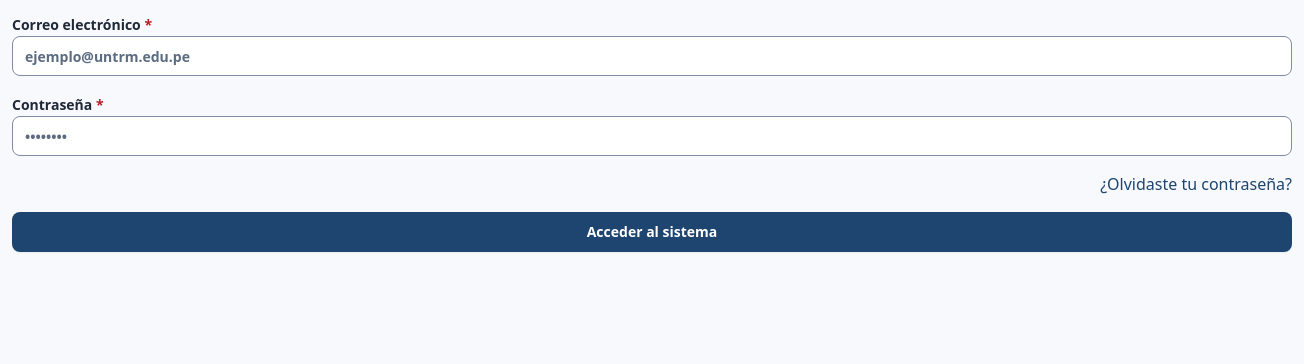
Test: LoginForm component › shows pending activation message on ACCOUNT_PENDING_ACTIVATION (CA4)
Type "pendiente@untrm.edu.pe" into the field labelled "Correo electrónico *" at (652, 56), box [12,36,1292,76]
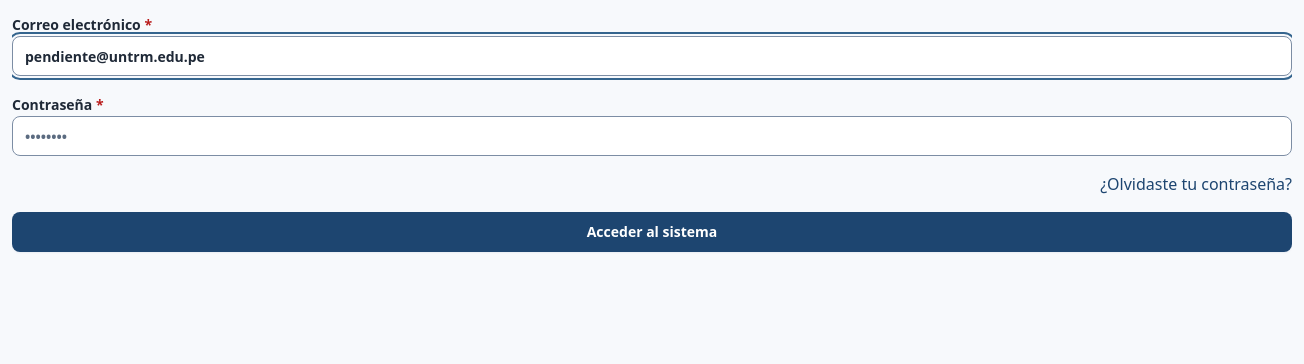
Type "ClaveValida123" into the password field labelled "Contraseña *" at (652, 136), box [12,116,1292,156]
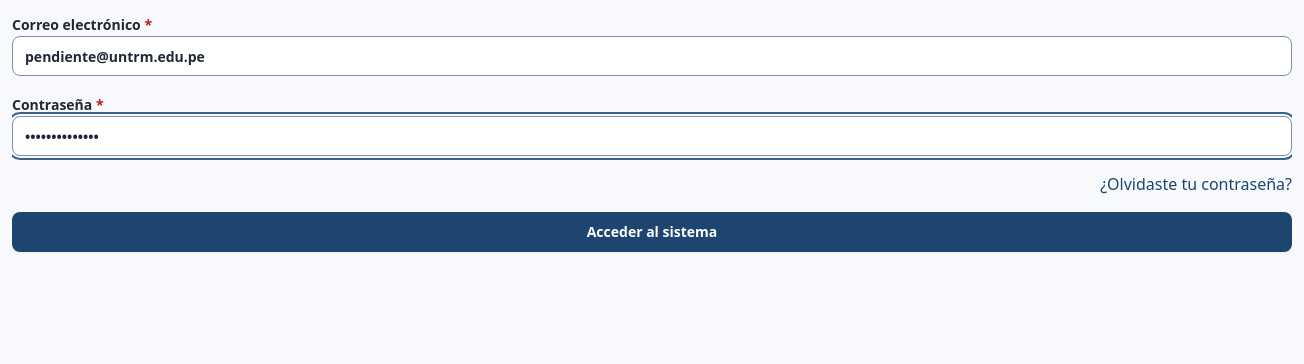
Click the button "Acceder al sistema" at (652, 232), box [12,212,1292,252]
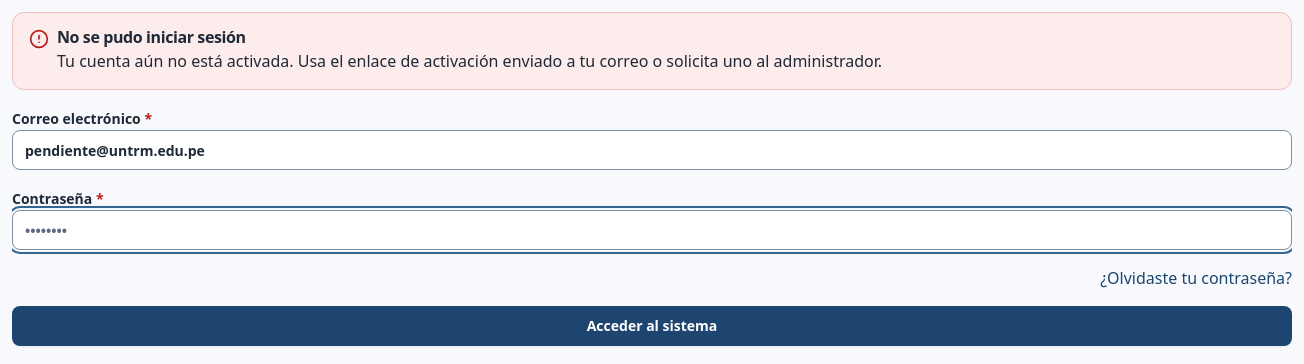
Result: the message shows "tu cuenta aún no está activada. usa el enlace de activación enviado a tu correo o solicita uno al administrador." at [57,50,882,72]
